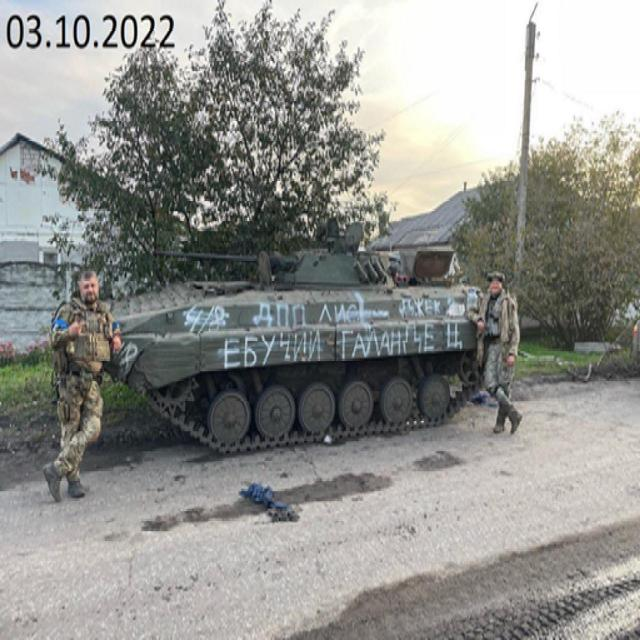APC-IFV: (84, 194, 495, 442)
